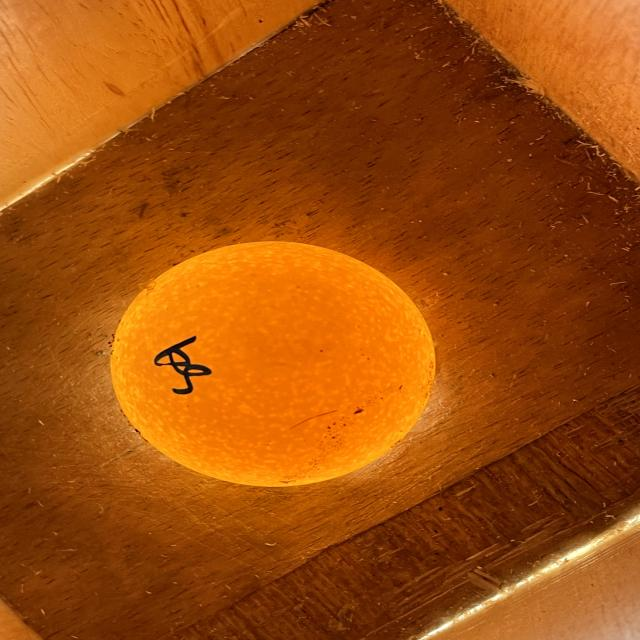infertile: (112, 241, 435, 486)
